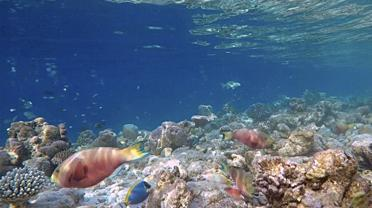Acanthuridae -Surgeonfishes-: (115, 180, 166, 208)
Scaridae -Parrotfishes-: (47, 129, 146, 194), (213, 157, 268, 200), (217, 120, 277, 155)
